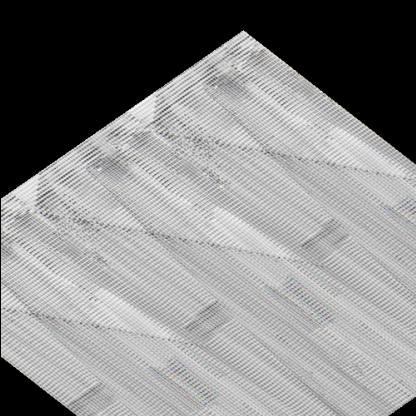Damage: (98, 114, 244, 166)
